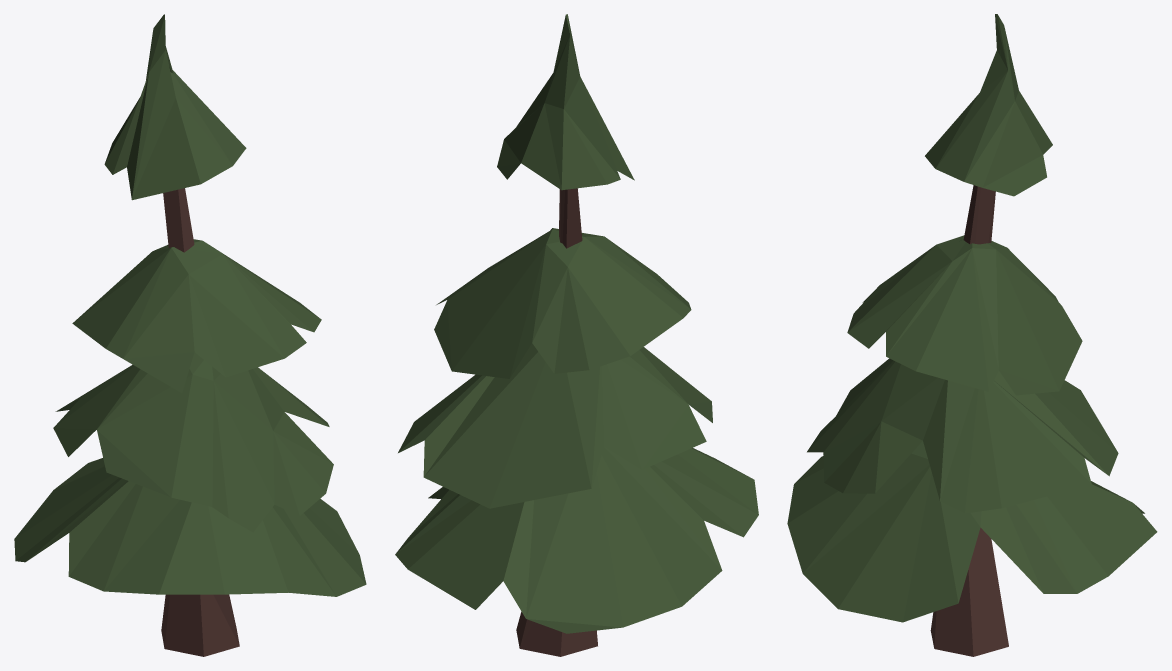
File: pine.glb
The picture shows the model from 3 angles, left to right: view 1: azimuth 30°, elevation 25°; view 2: azimuth 150°, elevation 25°; view 3: azimuth 270°, elevation 25°; orthographic projection. The views are drawn at different scales.
Visible parts, largest first — view 1: PineTree_2; view 2: PineTree_2; view 3: PineTree_2.
Part boxes in pixels (bbox=[...]): PineTree_2: bbox=[14, 14, 366, 656]; PineTree_2: bbox=[395, 14, 758, 656]; PineTree_2: bbox=[787, 14, 1157, 656].
Bounding box in the file's own units: 1.8 × 3.56 × 1.95.
